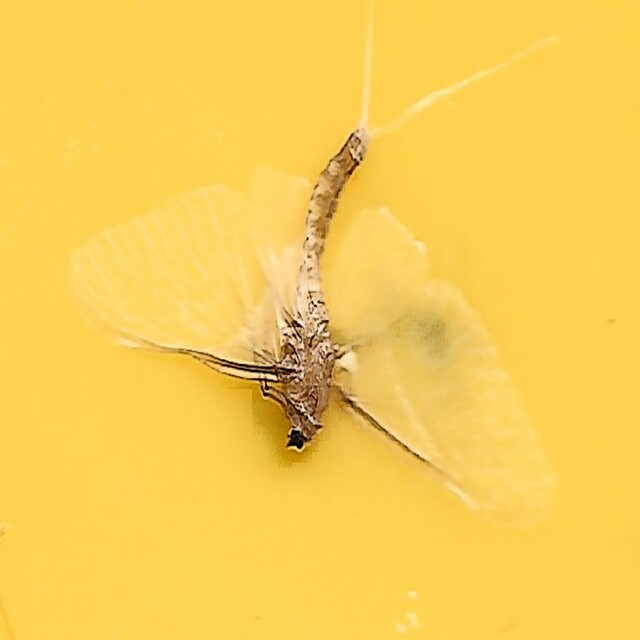Ephemeroptera: (76, 119, 564, 521)
